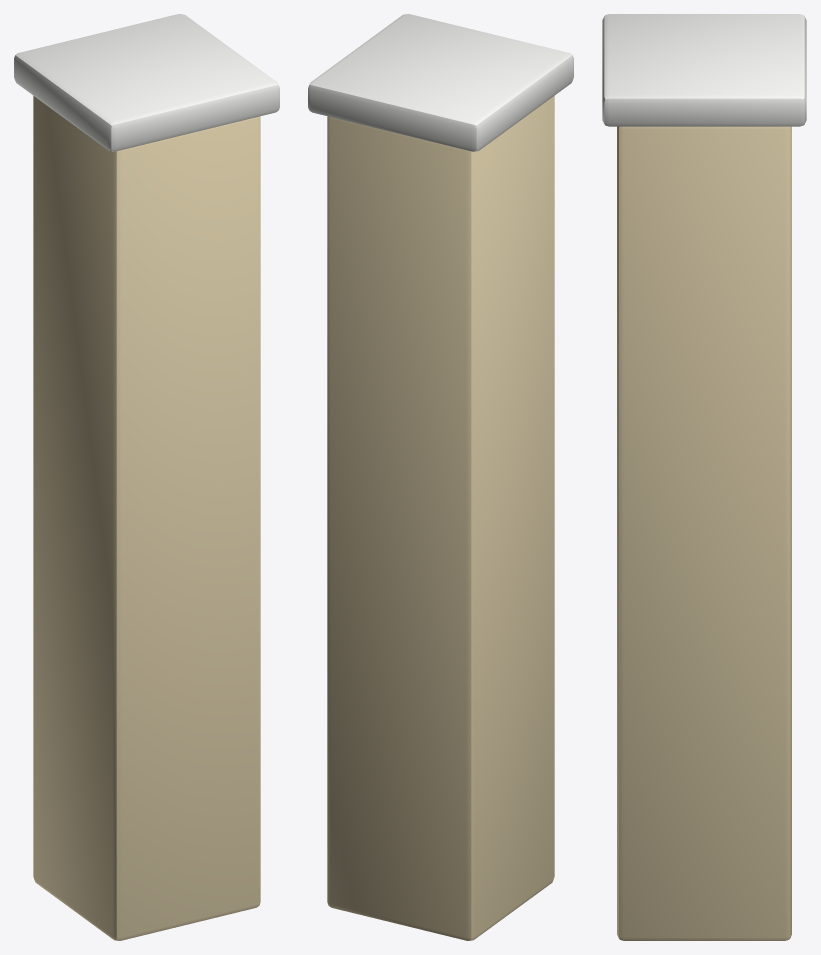
Rendered from cerca_mureta_grade_fim.glb.
The picture shows the model from 3 angles, left to right: view 1: azimuth 30°, elevation 25°; view 2: azimuth 150°, elevation 25°; view 3: azimuth 270°, elevation 25°; orthographic projection. The views are drawn at different scales.
Visible parts, largest first — view 1: cerca_mureta_grade_fim; view 2: cerca_mureta_grade_fim; view 3: cerca_mureta_grade_fim.
Boxes of the visible parts, x1=… form: cerca_mureta_grade_fim: x1=14, y1=14, x2=279, y2=940; cerca_mureta_grade_fim: x1=308, y1=14, x2=573, y2=940; cerca_mureta_grade_fim: x1=602, y1=14, x2=806, y2=940.
Size of the model in its own units: 0.35 by 1.61 by 0.35.
1 material, 1 textured.
